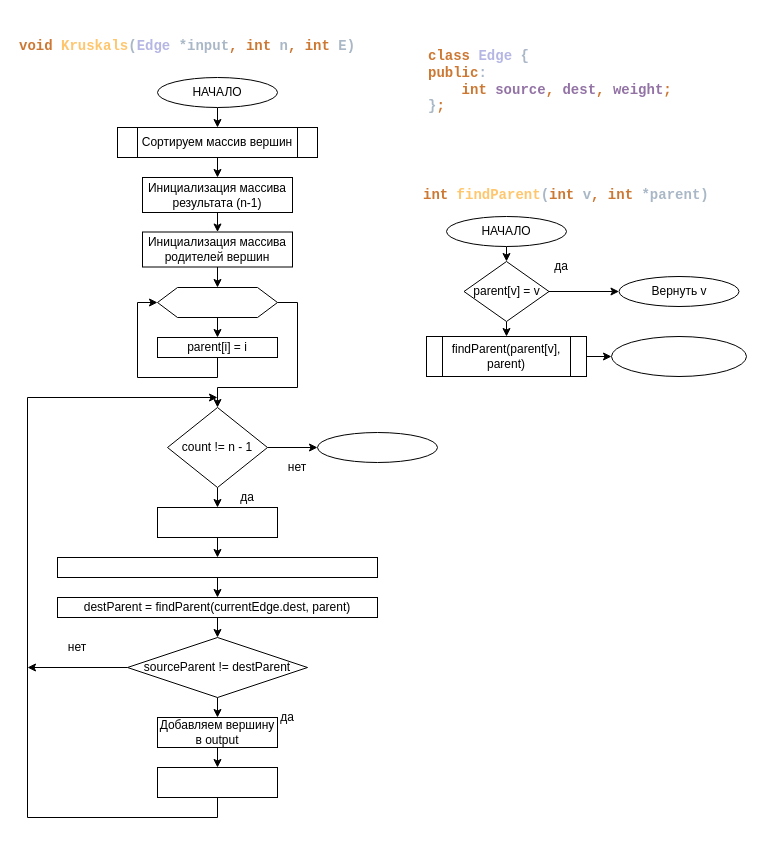
The diagram is 764 pixels wide and 843 high, and some of its shapes have lost their labels. Each missing label, with the box of its shape:
currentEdge = input[i]: (156, 506, 278, 538)
i = 0; i < n; i++: (156, 286, 278, 318)
sourceParent = findParent(currentEdge.source, parent): (56, 556, 378, 578)
Вернуть результат функции: (610, 336, 746, 376)
КОНЕЦ: (316, 432, 438, 462)
Меняем массив родителей: (156, 766, 278, 798)
